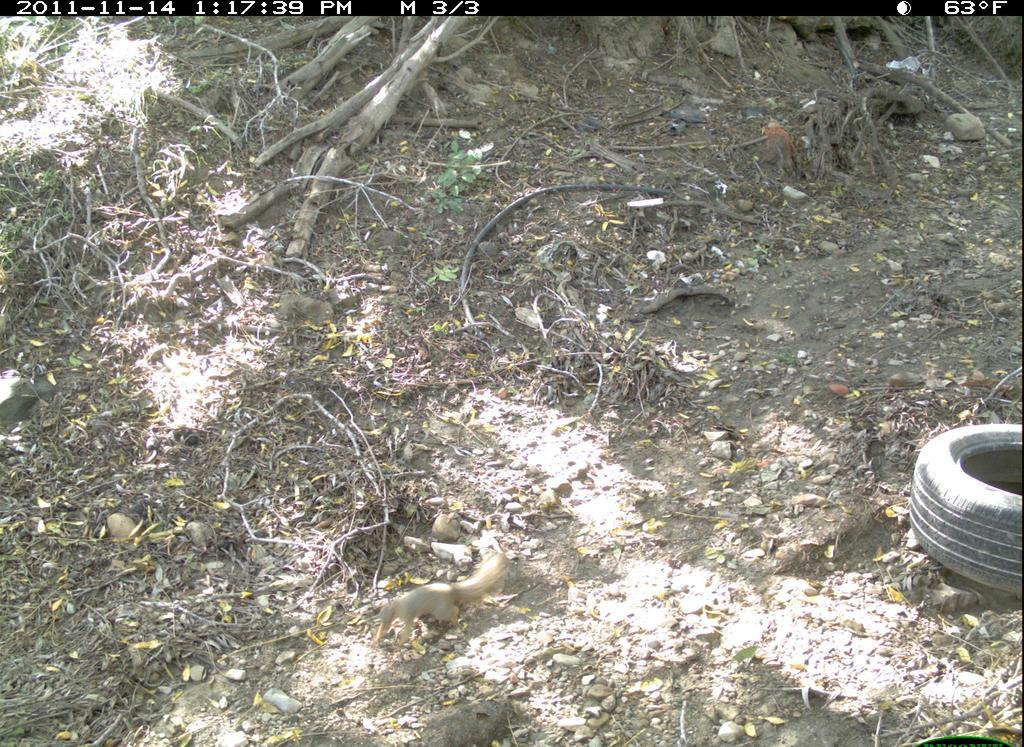squirrel: (354, 530, 541, 648)
